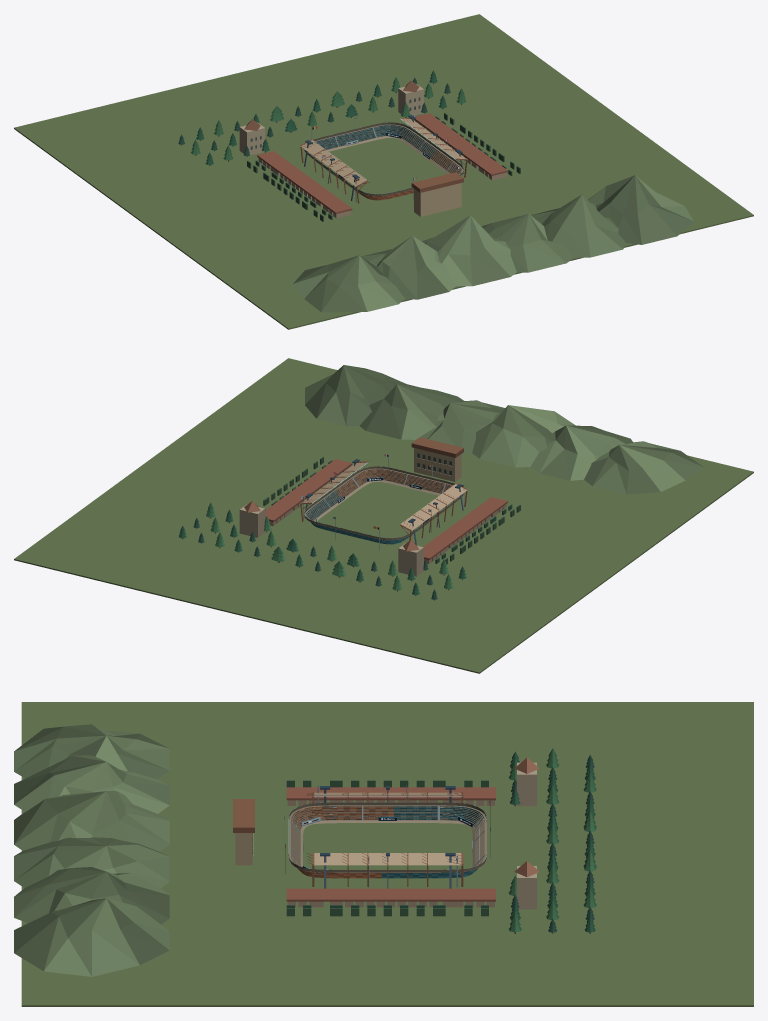
File: vineyard-v2.glb
3 views of the same model, one above another, from view 1: azimuth 30°, elevation 25°; view 2: azimuth 150°, elevation 25°; view 3: azimuth 270°, elevation 25° (orthographic). The views are drawn at different scales.
Visible parts, largest first — view 1: Arena architecture / vineyard; view 2: Arena architecture / vineyard; view 3: Arena architecture / vineyard.
Boxes of the visible parts, left/top/right/bottom form: Arena architecture / vineyard: left=14, top=14, right=753, bottom=329; Arena architecture / vineyard: left=14, top=358, right=753, bottom=673; Arena architecture / vineyard: left=14, top=702, right=753, bottom=1006.
Bounding box in the file's own units: 61300 × 4910 × 63257.
4 materials, 2 textured.
